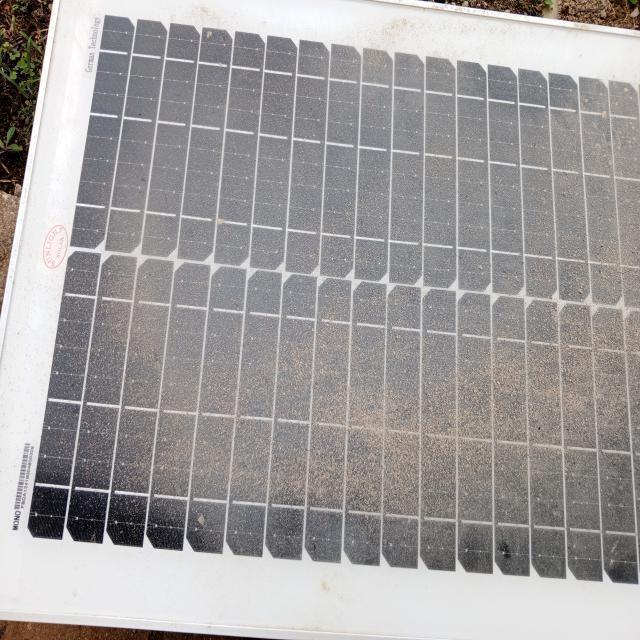Surface Contaminant: (82, 16, 453, 601)
